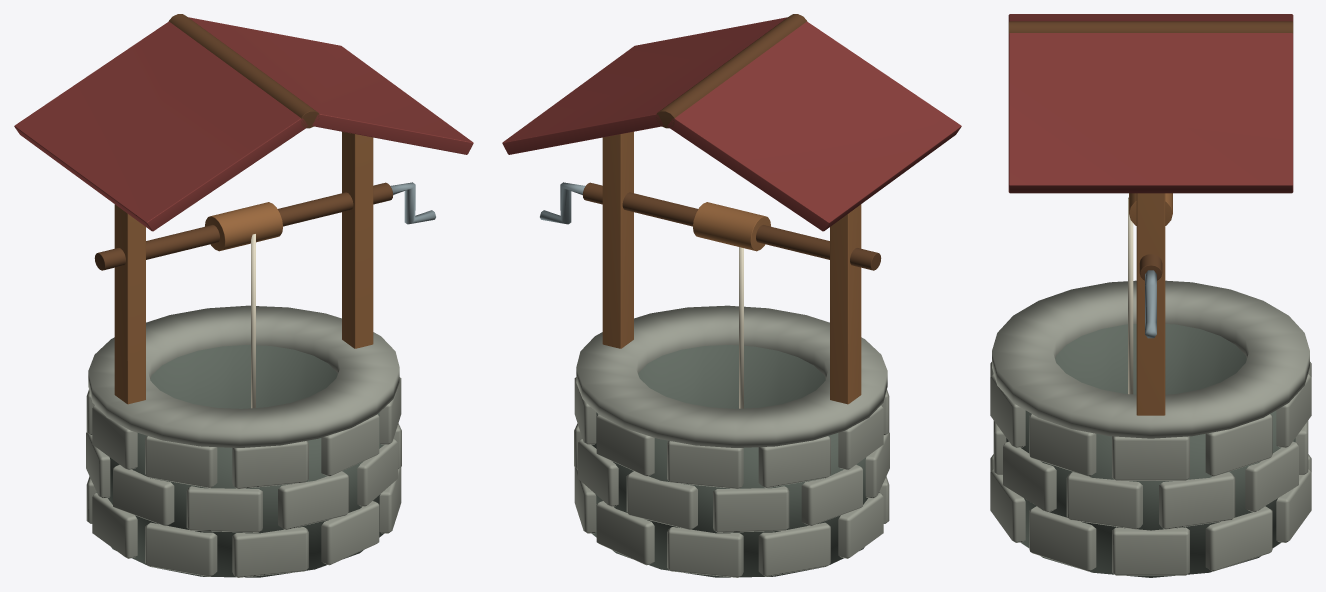
File: S054_roofed_well_rebuilt.glb
3 views of the same model, side by side, from view 1: azimuth 30°, elevation 25°; view 2: azimuth 150°, elevation 25°; view 3: azimuth 270°, elevation 25° (orthographic). The views are drawn at different scales.
Parts seen in each view (by area): view 1: Weathered_light_stone, Burgundy_upholstery.001, Oiled_warm_oak.001, Dark_rough_stone_joint, Oak_end_and_edge.001, Warm_ivory.001, Brushed_steel.001; view 2: Weathered_light_stone, Burgundy_upholstery.001, Oiled_warm_oak.001, Dark_rough_stone_joint, Oak_end_and_edge.001, Warm_ivory.001, Brushed_steel.001; view 3: Weathered_light_stone, Burgundy_upholstery.001, Dark_rough_stone_joint, Oiled_warm_oak.001, Oak_end_and_edge.001, Warm_ivory.001, Brushed_steel.001.
Boxes of the visible parts, box(x1,y1,x2,y2) form: Weathered_light_stone: box(86, 305, 401, 577); Burgundy_upholstery.001: box(14, 17, 473, 231); Oiled_warm_oak.001: box(114, 131, 373, 404); Dark_rough_stone_joint: box(96, 345, 384, 577); Oak_end_and_edge.001: box(94, 14, 393, 270); Warm_ivory.001: box(251, 234, 255, 408); Brushed_steel.001: box(390, 182, 435, 224); Weathered_light_stone: box(574, 305, 889, 577); Burgundy_upholstery.001: box(502, 17, 961, 231); Oiled_warm_oak.001: box(602, 131, 861, 404); Dark_rough_stone_joint: box(591, 345, 879, 577); Oak_end_and_edge.001: box(582, 14, 881, 270); Warm_ivory.001: box(739, 247, 743, 408); Brushed_steel.001: box(540, 182, 585, 224); Weathered_light_stone: box(990, 280, 1311, 575); Burgundy_upholstery.001: box(1008, 14, 1293, 193); Dark_rough_stone_joint: box(1006, 324, 1295, 577); Oiled_warm_oak.001: box(1129, 193, 1172, 415); Oak_end_and_edge.001: box(1008, 21, 1293, 280); Warm_ivory.001: box(1128, 197, 1133, 394); Brushed_steel.001: box(1145, 270, 1156, 338).
Bounding box in the file's own units: 1.84 × 2.26 × 1.35.
